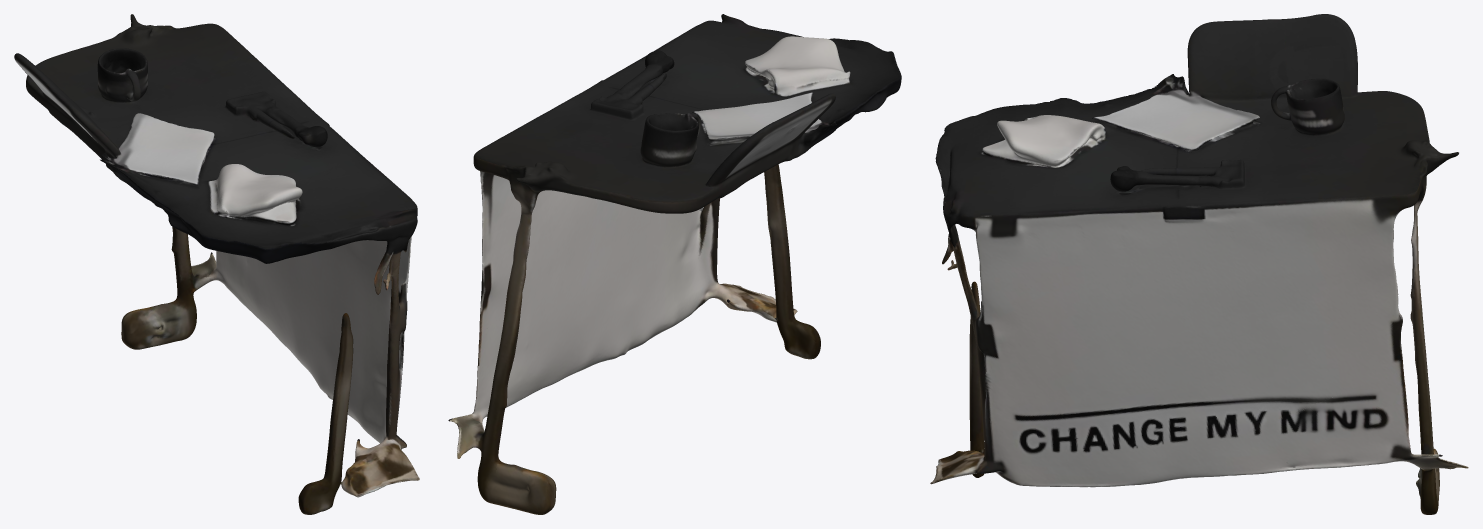
Rendered from table.fbx.
3 views of the same model, side by side, from view 1: azimuth 30°, elevation 25°; view 2: azimuth 150°, elevation 25°; view 3: azimuth 270°, elevation 25° (orthographic). The views are drawn at different scales.
Parts seen in each view (by area): view 1: tripo_node_60d18e37-5c38-4150-8d19-38d5aa86ddf7; view 2: tripo_node_60d18e37-5c38-4150-8d19-38d5aa86ddf7; view 3: tripo_node_60d18e37-5c38-4150-8d19-38d5aa86ddf7.
Boxes of the visible parts, x1,y1,x2,y2 form: tripo_node_60d18e37-5c38-4150-8d19-38d5aa86ddf7: (14, 14, 419, 514); tripo_node_60d18e37-5c38-4150-8d19-38d5aa86ddf7: (448, 14, 901, 514); tripo_node_60d18e37-5c38-4150-8d19-38d5aa86ddf7: (930, 14, 1468, 514).
Size of the model in its own units: 57.16 by 80.12 by 100.
Materials: 1 (1 with a texture image).
